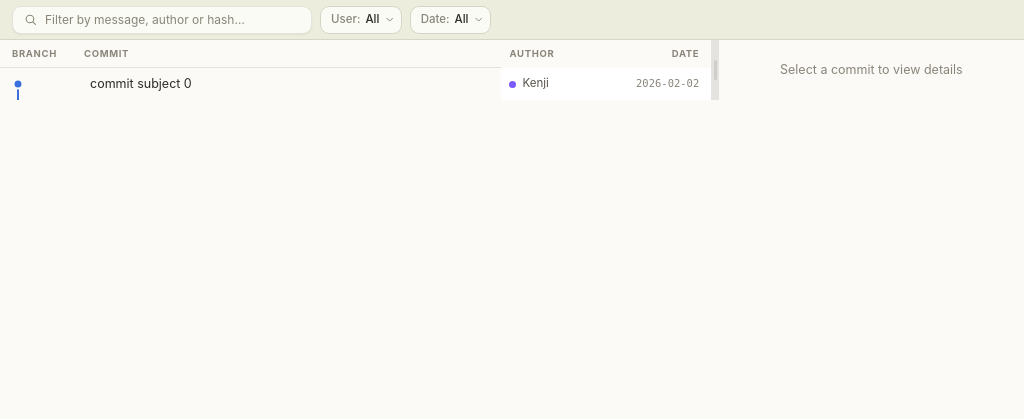
Test: LogTab details actions › blocks Checkout while an editor tab is dirty
Click the text "commit subject 0": point(141, 84) x1=90 y1=75 x2=192 y2=93
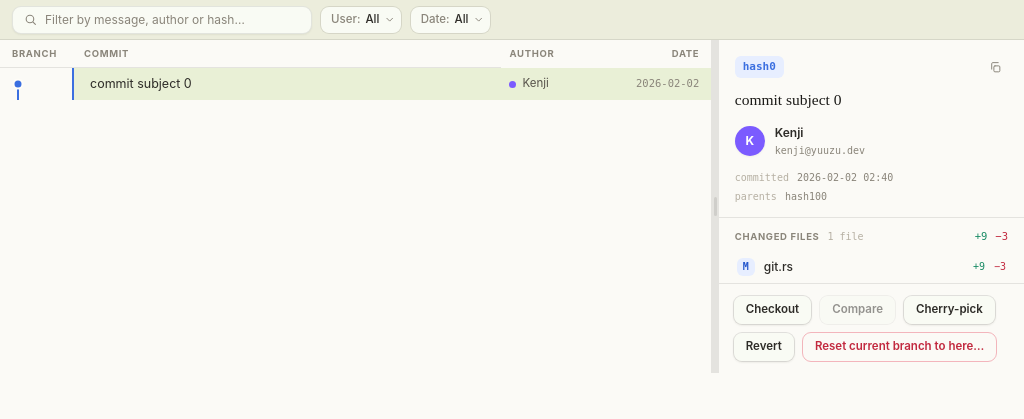
Result: the text "git.rs" is shown at x1=764 y1=259 x2=793 y2=274
Click the button "Checkout": point(772, 310) x1=733 y1=295 x2=812 y2=325
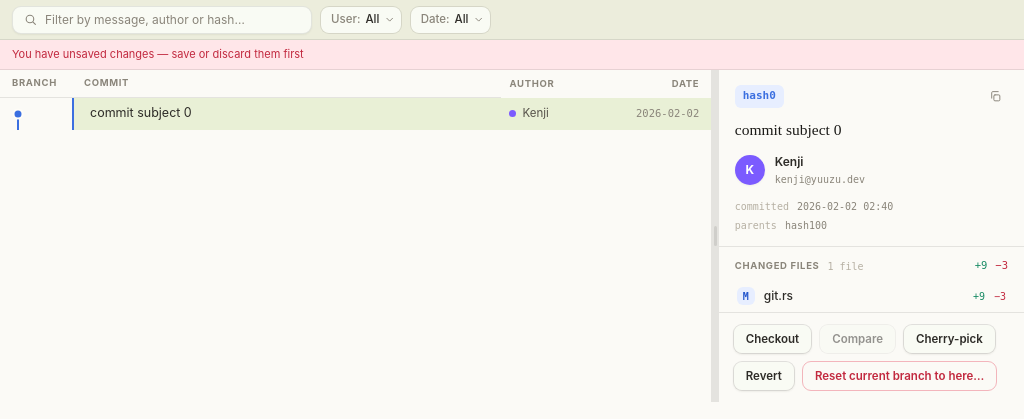
Result: the text "You have unsaved changes — save or discard them first" is shown at x1=0 y1=40 x2=1023 y2=70
